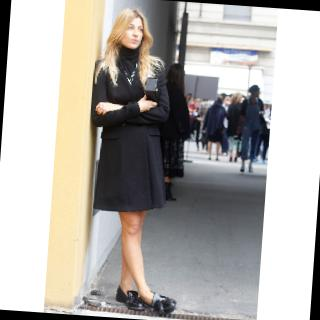loafers: (111, 278, 182, 318)
